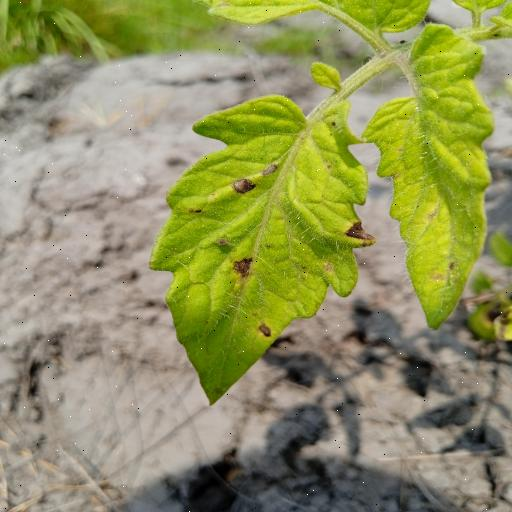Tomato_Brown_Spots: (145, 92, 382, 408), (356, 21, 500, 336)
